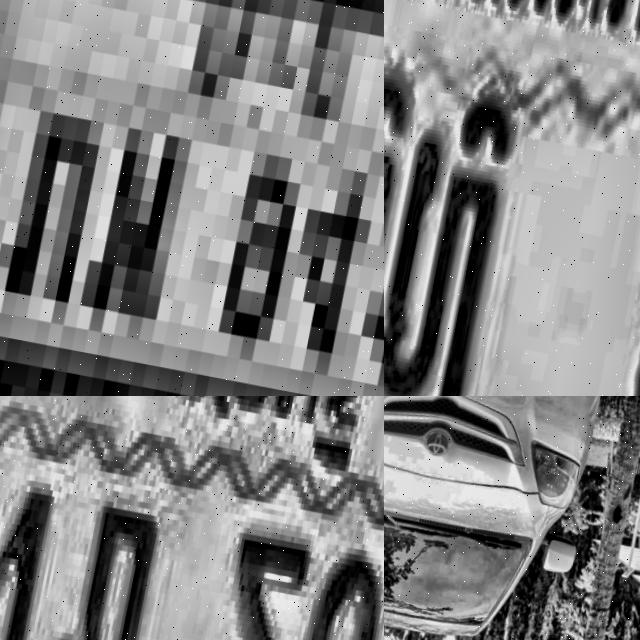license-plate: (0, 0, 384, 396), (384, 0, 640, 396), (0, 396, 384, 640)
